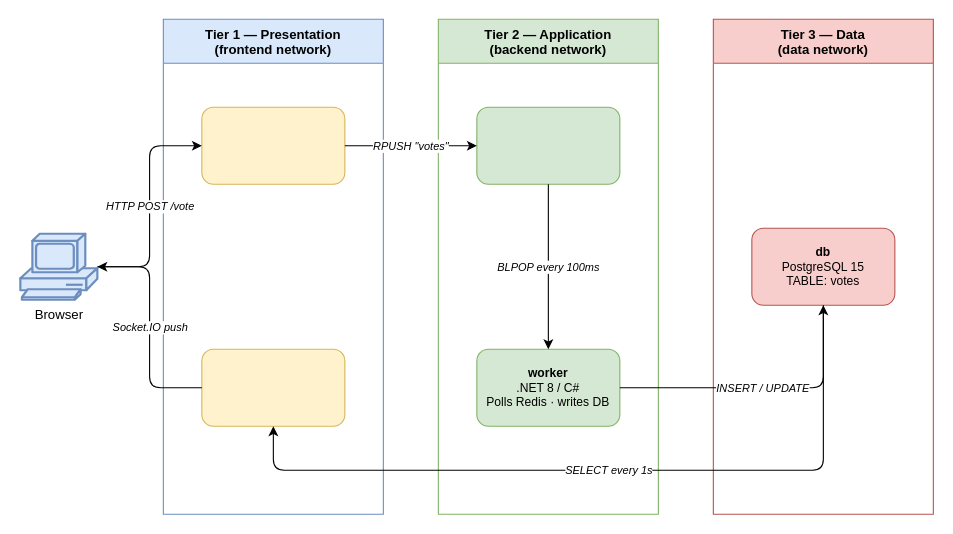
This 953x534 diagram has some shape labels left out. Each missing label, with the centre of its shape:
redis Message Queue list: "votes": point (548, 145)
result Node.js / Express Socket.IO · port :8081: point (273, 387)
vote Python / Flask Gunicorn · port :8080: point (273, 145)
